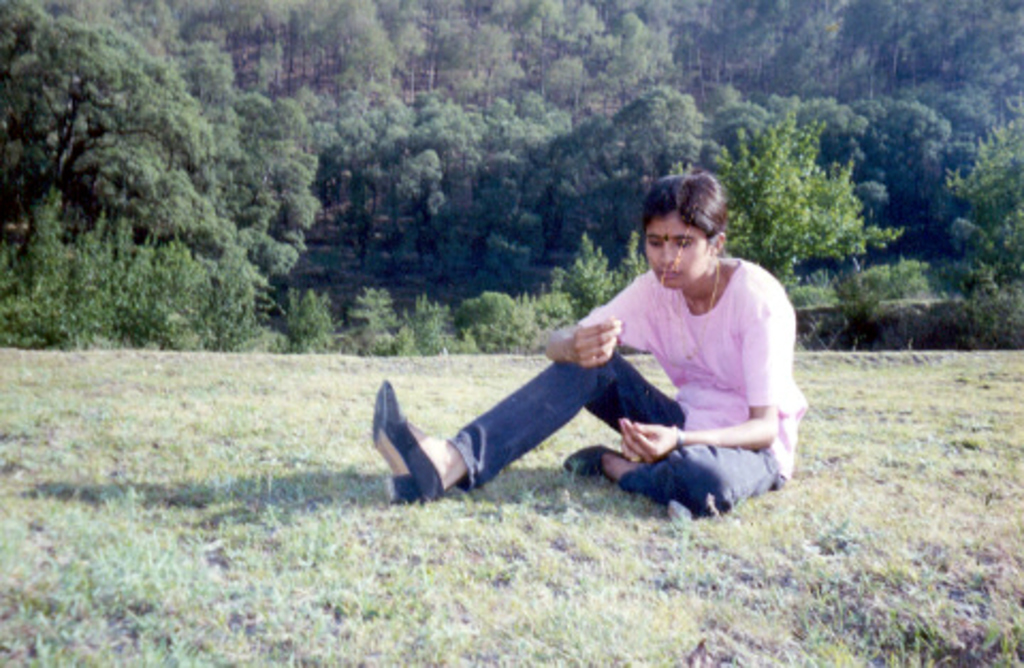Human_hand: (553, 316, 636, 376), (619, 414, 676, 467)
